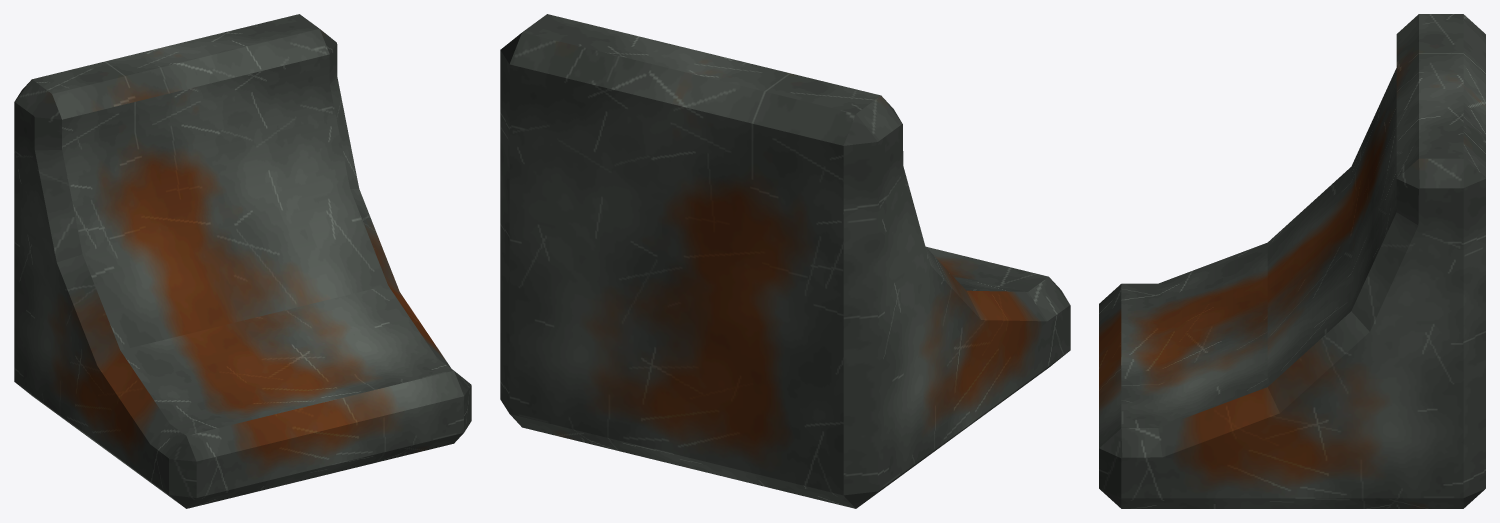
The model's file is R4B_CoveEdge_LOD1.glb.
The picture shows the model from 3 angles, left to right: view 1: azimuth 30°, elevation 25°; view 2: azimuth 150°, elevation 25°; view 3: azimuth 270°, elevation 25°; orthographic projection. The views are drawn at different scales.
Visible parts, largest first — view 1: R4B_CoveEdge_LOD1; view 2: R4B_CoveEdge_LOD1; view 3: R4B_CoveEdge_LOD1.
Boxes of the visible parts, x1,y1,x2,y2 form: R4B_CoveEdge_LOD1: [14, 14, 471, 508]; R4B_CoveEdge_LOD1: [500, 14, 1070, 508]; R4B_CoveEdge_LOD1: [1099, 14, 1485, 508].
Bounding box in the file's own units: 0.52 × 0.52 × 0.52.
Materials: 1 (1 with a texture image).
